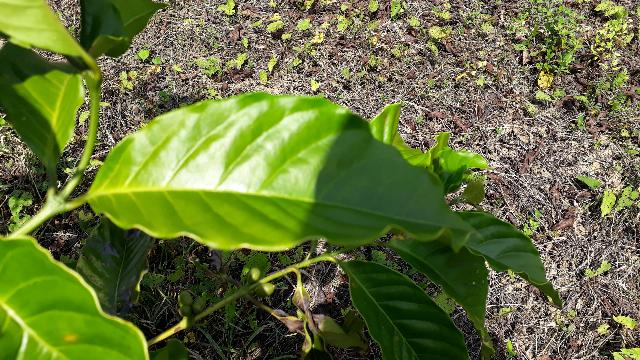healthy: (89, 92, 481, 250)
